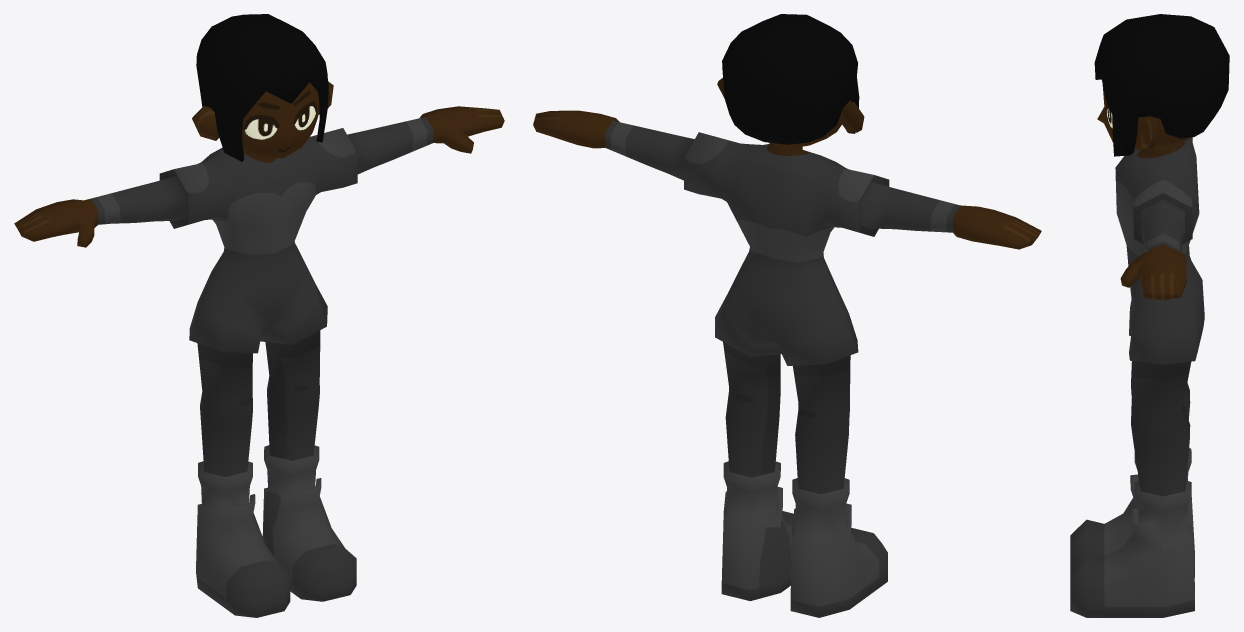
Rendered from atlasfinal.glb.
The picture shows the model from 3 angles, left to right: view 1: azimuth 30°, elevation 25°; view 2: azimuth 150°, elevation 25°; view 3: azimuth 270°, elevation 25°; orthographic projection. The views are drawn at different scales.
Visible parts, largest first — view 1: body, hair, head, ears; view 2: body, hair; view 3: body, hair, head, ears.
Boxes of the visible parts, left/top/right/bottom form: body: left=14, top=106, right=504, bottom=617; hair: left=196, top=14, right=328, bottom=161; head: left=242, top=82, right=319, bottom=158; ears: left=192, top=81, right=333, bottom=140; body: left=533, top=110, right=1041, bottom=617; hair: left=722, top=14, right=859, bottom=144; body: left=1070, top=137, right=1204, bottom=617; hair: left=1094, top=14, right=1229, bottom=156; head: left=1097, top=85, right=1189, bottom=149; ears: left=1140, top=117, right=1158, bottom=148.
Bounding box in the file's own units: 3.55 × 3.86 × 0.9864.
1 material, 1 textured.
